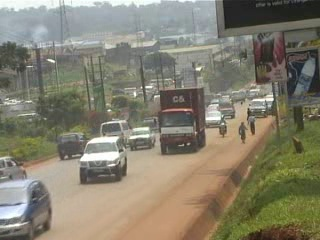Car: (0, 176, 56, 239), (76, 132, 132, 185), (52, 130, 94, 161), (0, 153, 31, 185), (204, 108, 225, 128), (218, 97, 236, 117), (205, 101, 220, 112)
Motorcycle: (216, 115, 227, 137)
